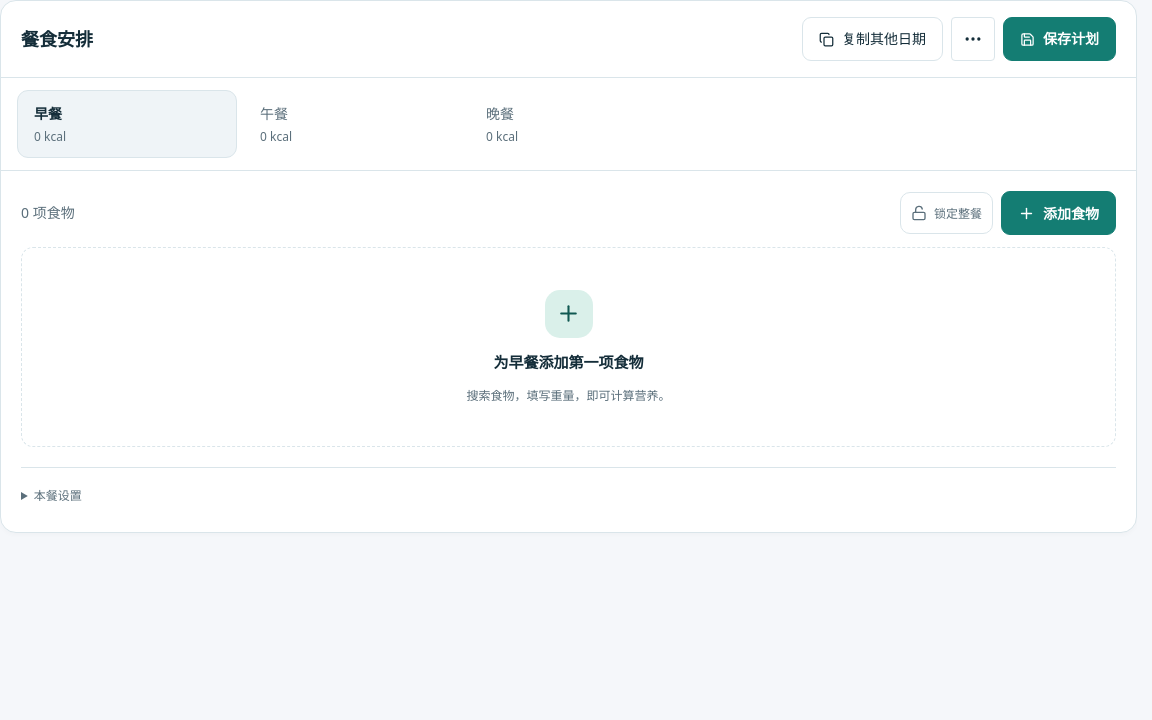
Test case: 读取异常展示原因，重新选择日期清除旧错误并允许重试
Click the button "复制其他日期": (872, 39) [802,17,943,61]
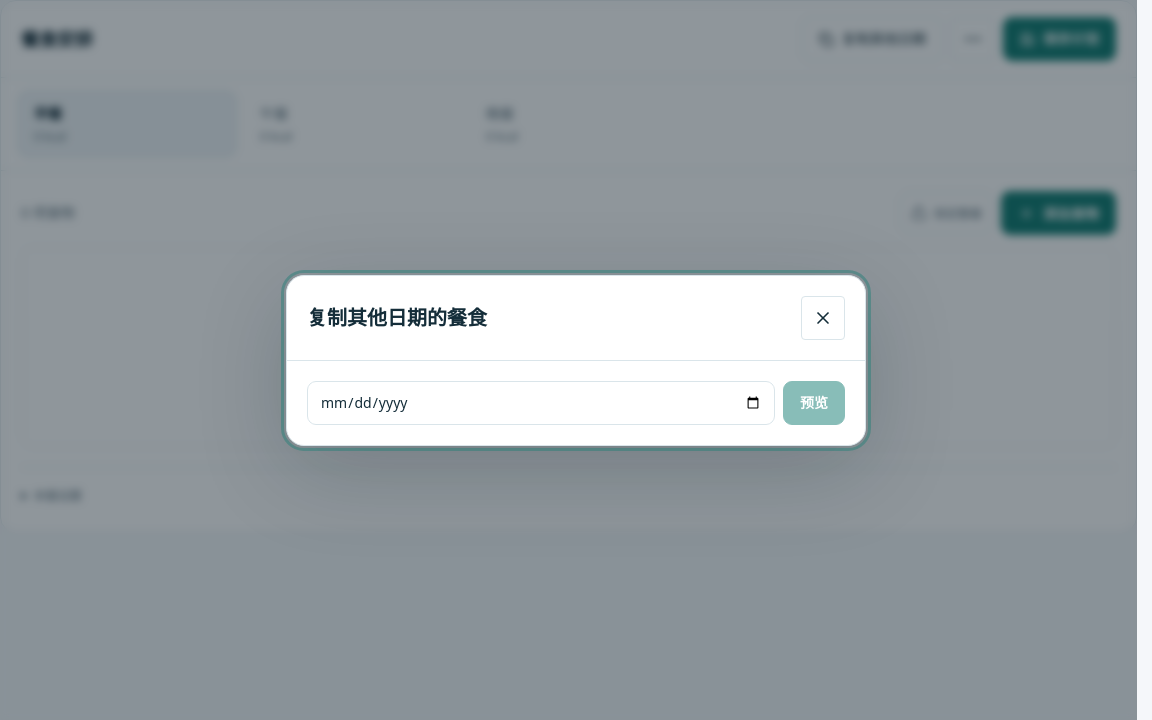
In the date field named "复制来源日期": (541, 402) [307,380,775,424], type "2030-01-01"
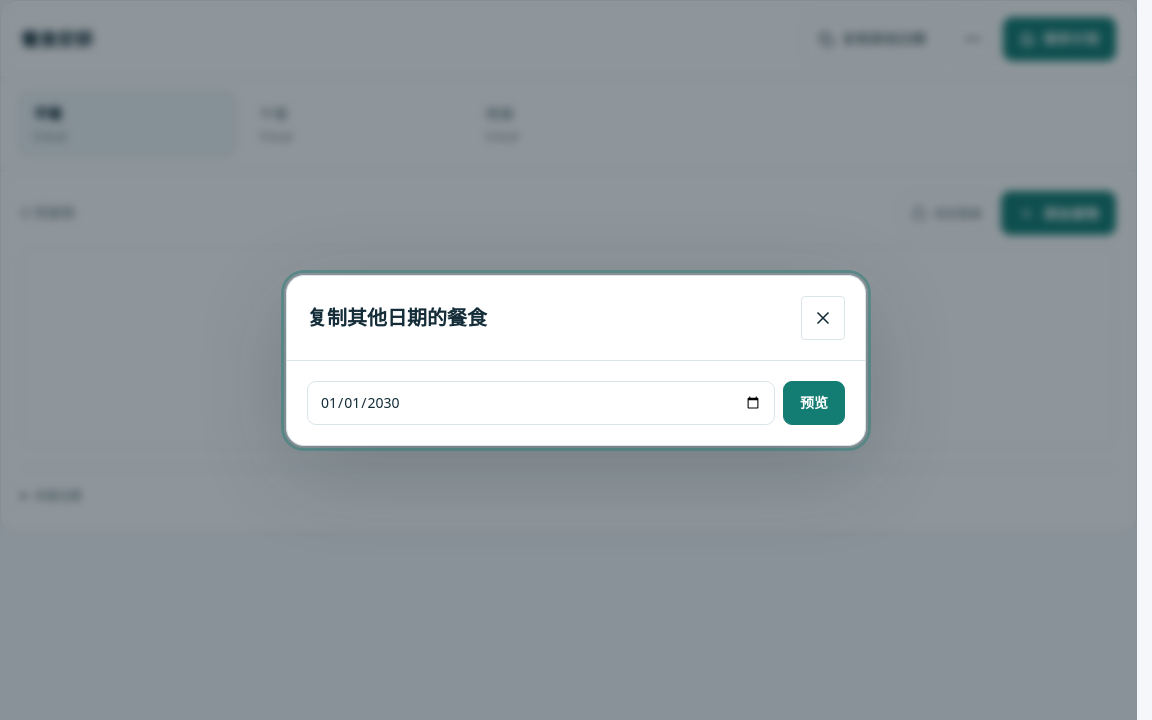
Click the button "预览": (814, 402) [783,380,845,424]
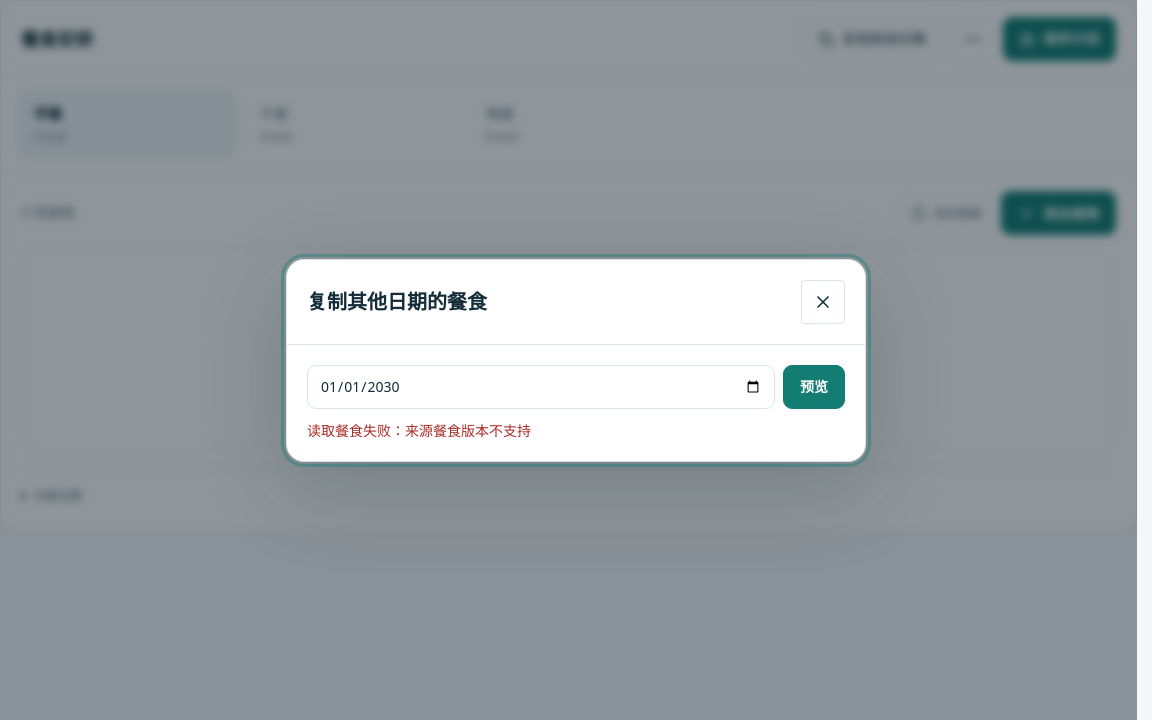
Now the message shows "来源餐食版本不支持", box [307,420,531,440]
In the date field named "复制来源日期": (541, 386) [307,364,775,408], type "2030-01-02"
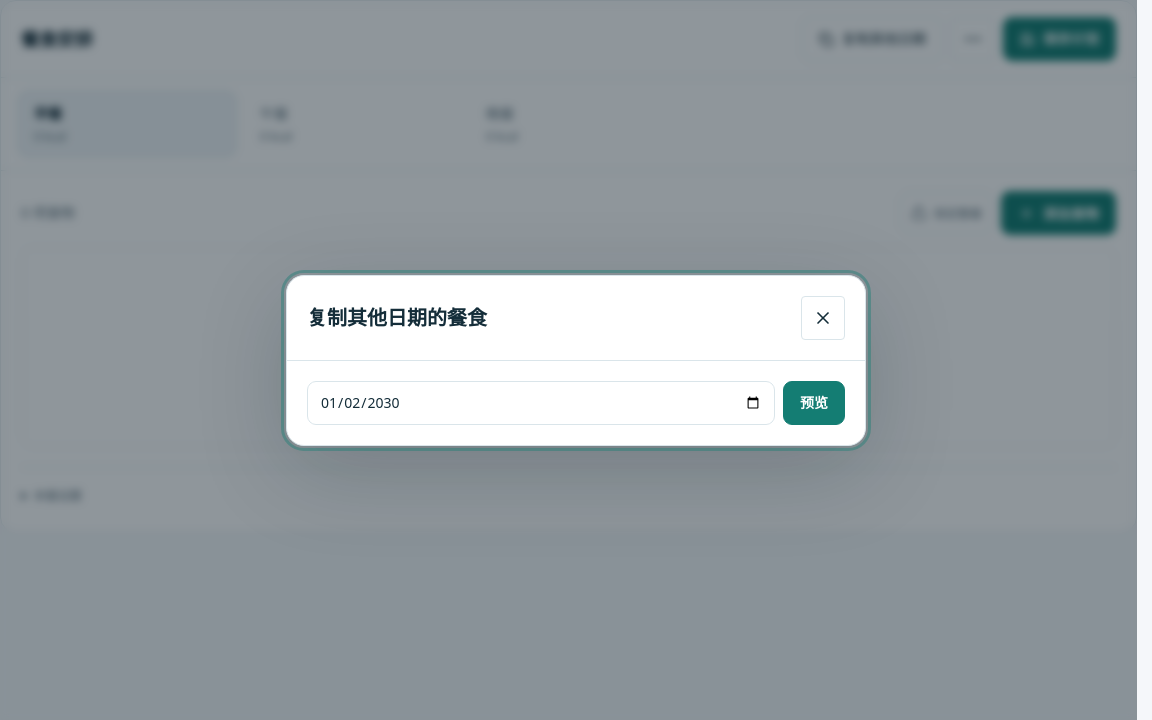
Now the message "读取餐食失败：来源餐食版本不支持" is gone
Click the button "预览": (814, 402) [783,380,845,424]
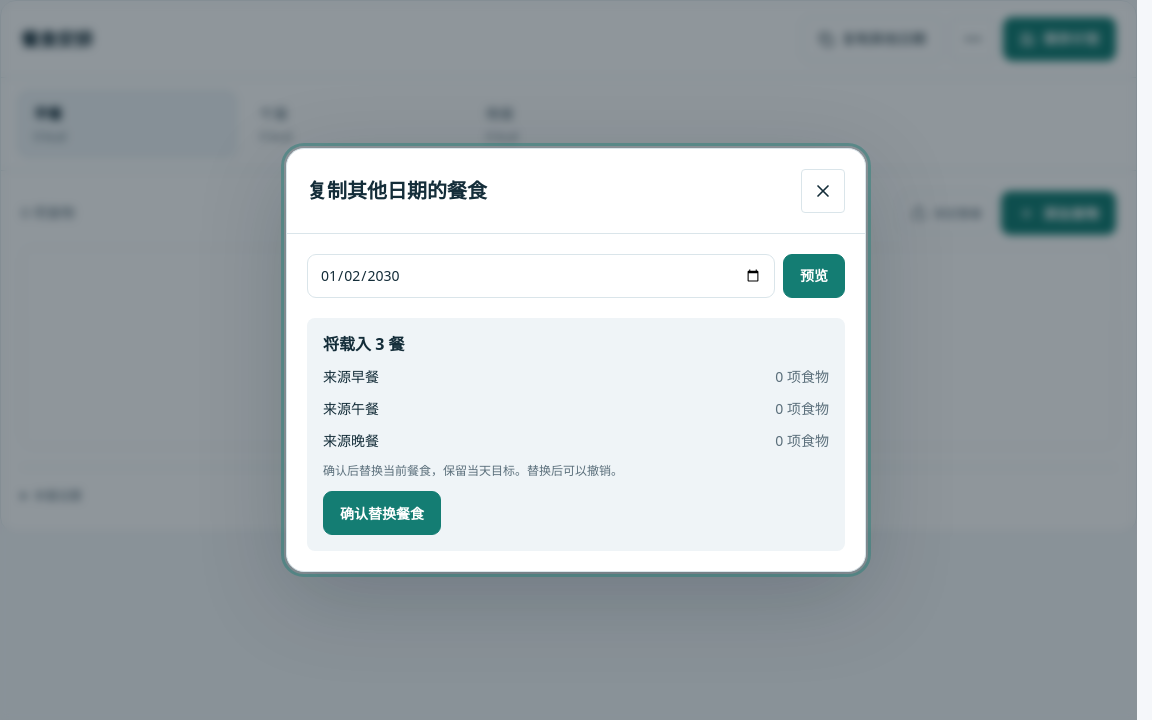
Now the heading "将载入 3 餐" is shown, box [323,333,404,355]
